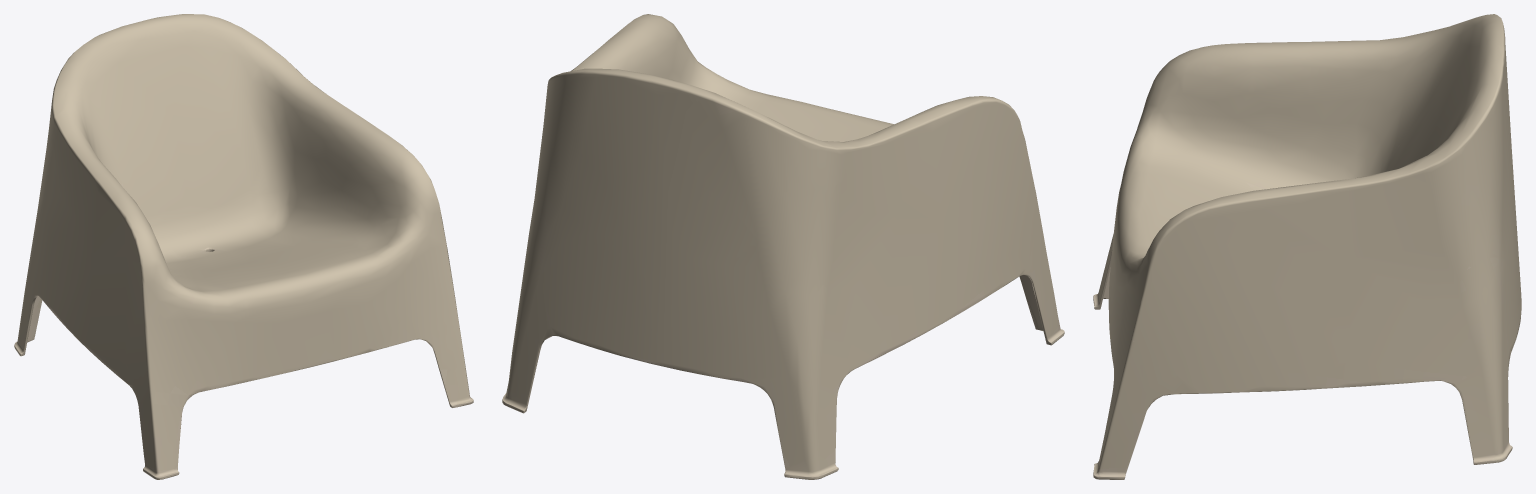
The picture shows the model from 3 angles, left to right: view 1: azimuth 30°, elevation 25°; view 2: azimuth 150°, elevation 25°; view 3: azimuth 270°, elevation 25°; orthographic projection. The views are drawn at different scales.
Visible parts, largest first — view 1: ASY_ART_50575811_S01_NV01; view 2: ASY_ART_50575811_S01_NV01; view 3: ASY_ART_50575811_S01_NV01.
Boxes of the visible parts, <box> form: ASY_ART_50575811_S01_NV01: <box>14,14,473,479</box>; ASY_ART_50575811_S01_NV01: <box>502,14,1064,479</box>; ASY_ART_50575811_S01_NV01: <box>1093,14,1521,479</box>.
Size of the model in its own units: 0.8015 by 0.7058 by 0.7889.
1 material, 1 textured.
